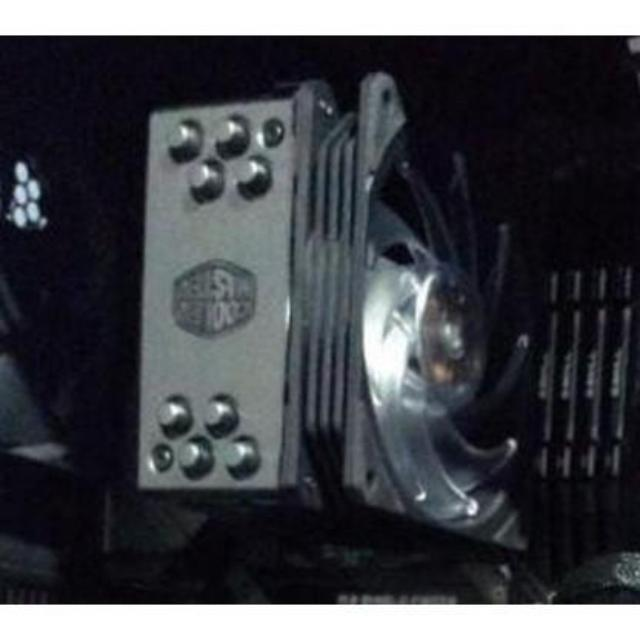CPU_Fan: (120, 76, 534, 564)
